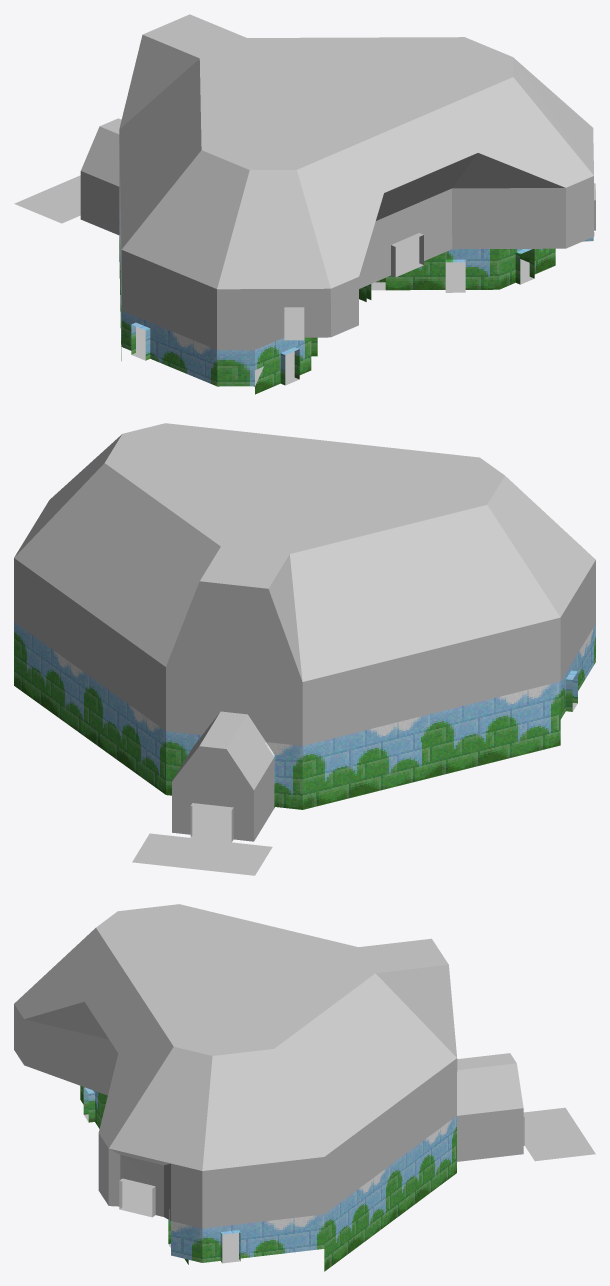
Rendered from Floor 1.fbx.
3 views of the same model, one above another, from view 1: azimuth 30°, elevation 25°; view 2: azimuth 150°, elevation 25°; view 3: azimuth 270°, elevation 25° (orthographic). The views are drawn at different scales.
Visible parts, largest first — view 1: Floor_1; view 2: Floor_1; view 3: Floor_1.
Part boxes in pixels (bbox=[...]): Floor_1: bbox=[14, 14, 595, 394]; Floor_1: bbox=[14, 423, 595, 875]; Floor_1: bbox=[14, 904, 595, 1271].
Size of the model in its own units: 4.24 by 1.79 by 4.7.
